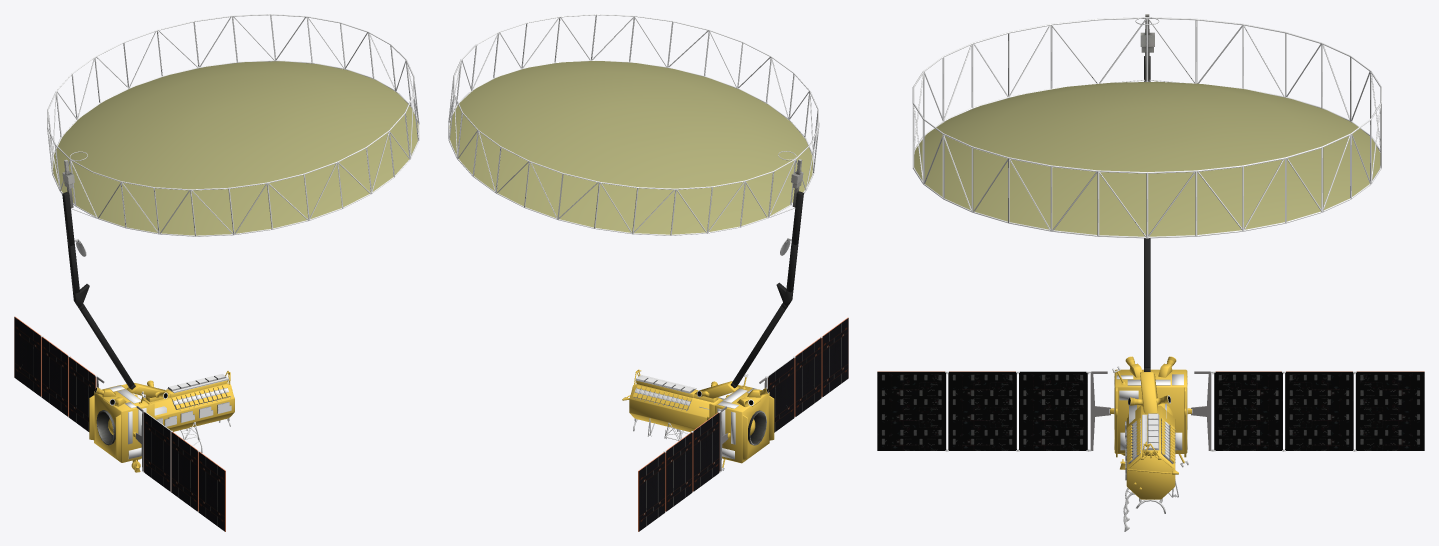
The model's file is Nisar.gltf.
The picture shows the model from 3 angles, left to right: view 1: azimuth 30°, elevation 25°; view 2: azimuth 150°, elevation 25°; view 3: azimuth 270°, elevation 25°; orthographic projection. The views are drawn at different scales.
Visible parts, largest first — view 1: antenna_mesh_top, antenna_railing, BUS, BUS_instruments, Arm, Left_panel_1, Left_panel_2, Right_panel_2, Left_panel_3, Right_panel_3, Right_panel_1, BUS.009; view 2: antenna_mesh_top, antenna_railing, BUS, Arm, Right_panel_2, Right_panel_1, Right_panel_3, Left_panel_2, Left_panel_3, BUS_instruments, Left_panel_1, BUS.009; view 3: antenna_mesh_top, antenna_railing, BUS, Left_panel_3, Right_panel_3, Left_panel_2, Right_panel_2, Left_panel_1, Right_panel_1, BUS_instruments, Arm, BUS.009.
Boxes of the visible parts, left/top/right/bottom form: antenna_mesh_top: left=53, top=61, right=418, bottom=235; antenna_railing: left=47, top=14, right=419, bottom=236; BUS: left=89, top=370, right=234, bottom=472; BUS_instruments: left=96, top=374, right=231, bottom=445; Arm: left=62, top=192, right=169, bottom=397; Left_panel_1: left=143, top=411, right=172, bottom=491; Left_panel_2: left=171, top=431, right=199, bottom=511; Right_panel_2: left=41, top=336, right=69, bottom=416; Left_panel_3: left=198, top=451, right=225, bottom=531; Right_panel_3: left=14, top=316, right=41, bottom=396; Right_panel_1: left=68, top=356, right=96, bottom=431; BUS.009: left=106, top=385, right=146, bottom=458; antenna_mesh_top: left=449, top=61, right=812, bottom=234; antenna_railing: left=448, top=14, right=819, bottom=235; BUS: left=622, top=369, right=774, bottom=470; Arm: left=694, top=191, right=803, bottom=398; Right_panel_2: left=663, top=431, right=692, bottom=511; Right_panel_1: left=691, top=411, right=719, bottom=491; Right_panel_3: left=638, top=451, right=665, bottom=531; Left_panel_2: left=794, top=336, right=821, bottom=417; Left_panel_3: left=821, top=317, right=848, bottom=397; BUS_instruments: left=633, top=375, right=766, bottom=445; Left_panel_1: left=767, top=356, right=794, bottom=432; BUS.009: left=717, top=388, right=758, bottom=459; antenna_mesh_top: left=914, top=81, right=1380, bottom=236; antenna_railing: left=912, top=17, right=1381, bottom=238; BUS: left=1110, top=366, right=1191, bottom=531; Left_panel_3: left=877, top=371, right=947, bottom=451; Right_panel_3: left=1354, top=371, right=1424, bottom=451; Left_panel_2: left=946, top=371, right=1017, bottom=451; Right_panel_2: left=1284, top=371, right=1355, bottom=451; Left_panel_1: left=1017, top=371, right=1088, bottom=451; Right_panel_1: left=1213, top=371, right=1284, bottom=451; BUS_instruments: left=1125, top=413, right=1175, bottom=480; Arm: left=1140, top=56, right=1157, bottom=413; BUS.009: left=1114, top=374, right=1187, bottom=450.
Bounding box in the file's own units: 13.04 × 13.96 × 14.29.
Materials: 14 (4 with a texture image).
